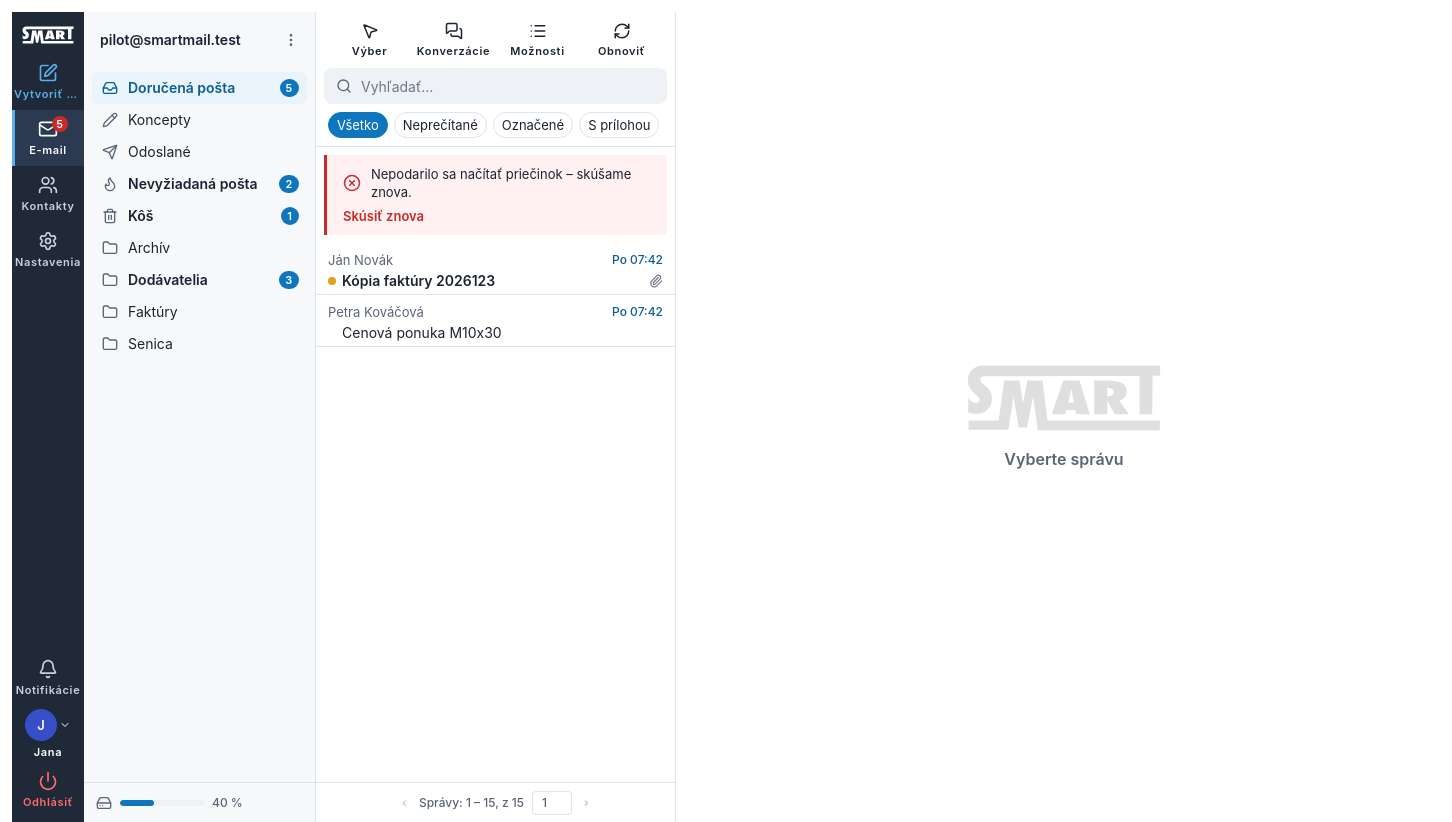
Test: W2 shell and folder column (1c) › W2 IMAP error: banner "Nepodarilo sa načítať priečinok" with Skúsiť znova → refresh
Click the button "Skúsiť znova". click: click(384, 216)
box: [343,207,424,225]
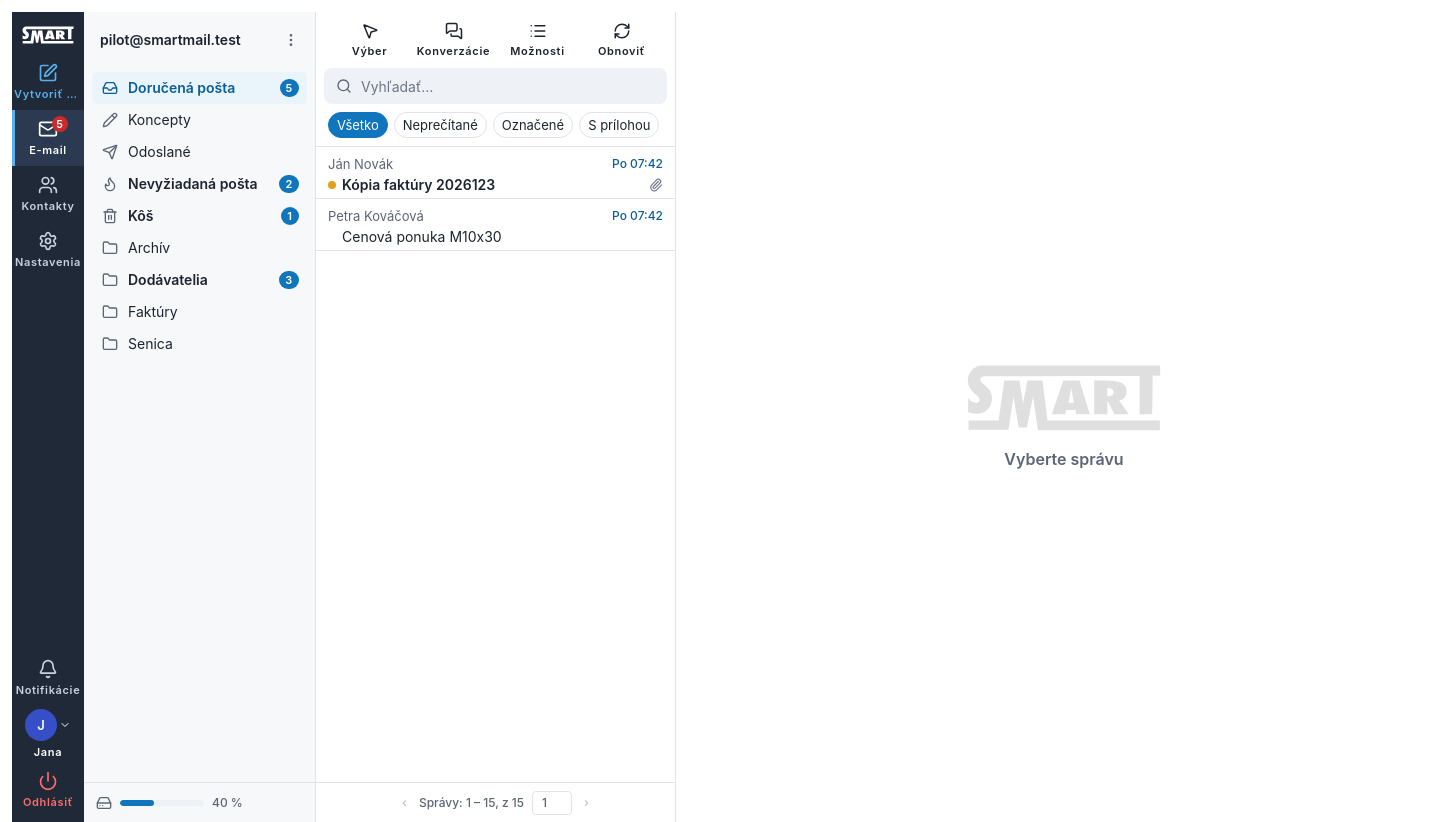
Expected: the text "Nepodarilo sa načítať priečinok – skúšame znova." is gone
